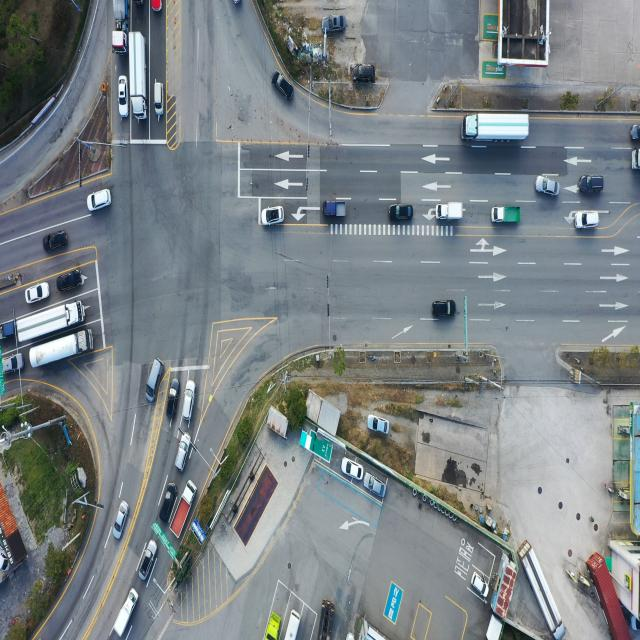car: (139, 541, 158, 583), (145, 359, 163, 403), (160, 482, 178, 525), (273, 72, 295, 104), (112, 500, 128, 540), (175, 434, 191, 474), (58, 270, 84, 292), (365, 475, 387, 501), (182, 379, 195, 420), (167, 379, 180, 420), (88, 188, 112, 210), (27, 282, 50, 304), (342, 458, 364, 481), (472, 572, 490, 600), (366, 415, 389, 436), (262, 207, 286, 227), (536, 176, 560, 196), (43, 232, 67, 252), (579, 178, 603, 198), (2, 353, 24, 374), (434, 301, 458, 320), (117, 77, 128, 118), (389, 204, 413, 222), (574, 211, 598, 229), (324, 16, 346, 34), (354, 64, 376, 82), (154, 82, 163, 117), (631, 124, 640, 142), (151, 0, 161, 12)
medium_truck: (520, 540, 566, 638), (13, 303, 84, 345), (28, 328, 95, 371), (462, 113, 530, 144), (131, 30, 150, 120), (170, 481, 197, 539), (112, 1, 128, 54), (320, 599, 337, 640), (631, 147, 640, 174)
small_bus: (280, 611, 302, 640)
small_truck: (114, 587, 138, 638), (492, 205, 523, 226), (436, 202, 464, 223), (324, 200, 348, 220), (264, 610, 280, 640), (0, 319, 16, 341)
